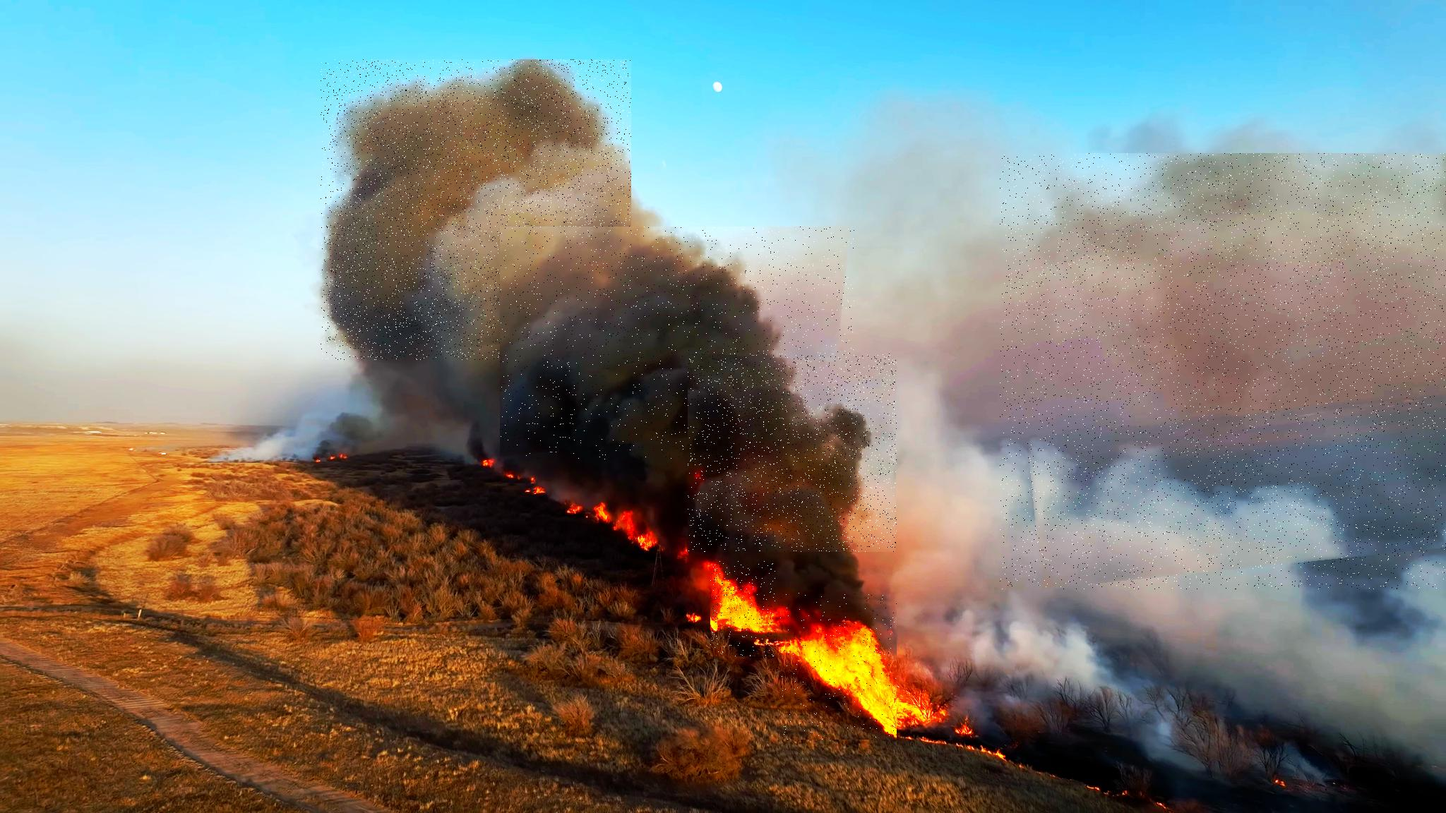fire: (780, 593, 897, 740), (710, 559, 775, 656)
smoke: (1000, 153, 1446, 589), (321, 59, 631, 360), (500, 227, 854, 459), (688, 353, 897, 552)
